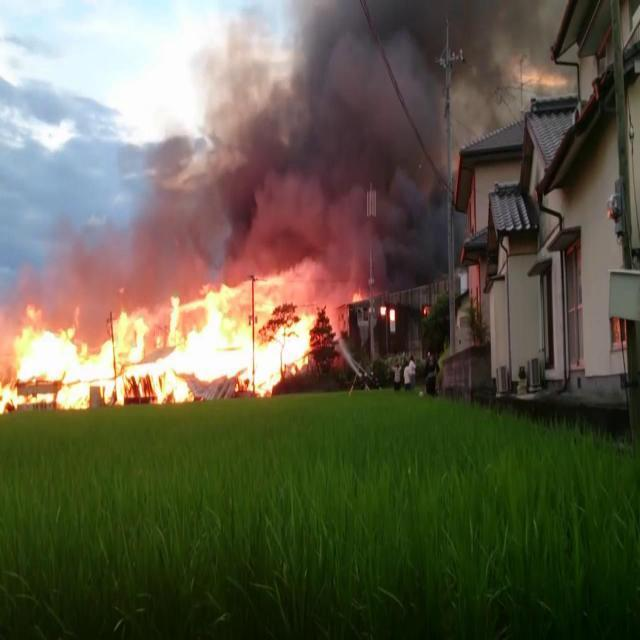Fire: (3, 263, 360, 402)
Smoke: (79, 0, 564, 240)
